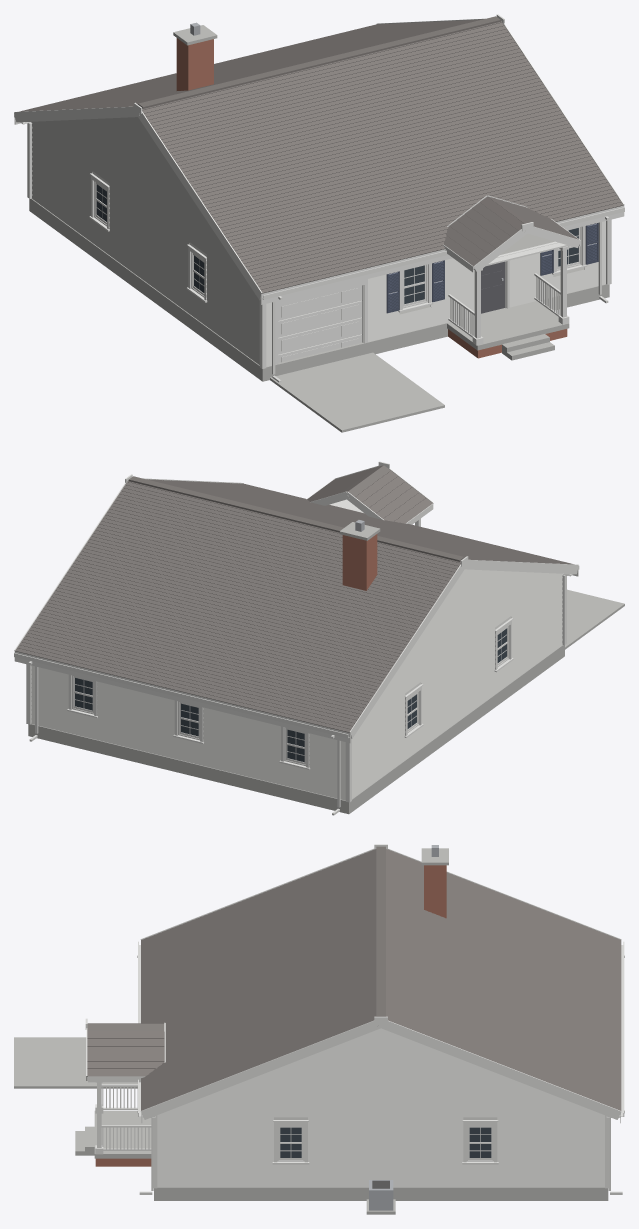
The model's file is SM_House_1F_A.fbx.
The picture shows the model from 3 angles, top to bottom: view 1: azimuth 30°, elevation 25°; view 2: azimuth 150°, elevation 25°; view 3: azimuth 270°, elevation 25°; orthographic projection. The views are drawn at different scales.
Parts seen in each view (by area): view 1: SM_House_1F_A_LOD0; view 2: SM_House_1F_A_LOD0; view 3: SM_House_1F_A_LOD0.
Part boxes in pixels (box(x1,y1,x2,y2)): SM_House_1F_A_LOD0: box(14, 14, 624, 432); SM_House_1F_A_LOD0: box(14, 461, 624, 815); SM_House_1F_A_LOD0: box(14, 844, 624, 1214).
Size of what is drawn, in the model's own units: 13.4 by 7.75 by 18.97.
